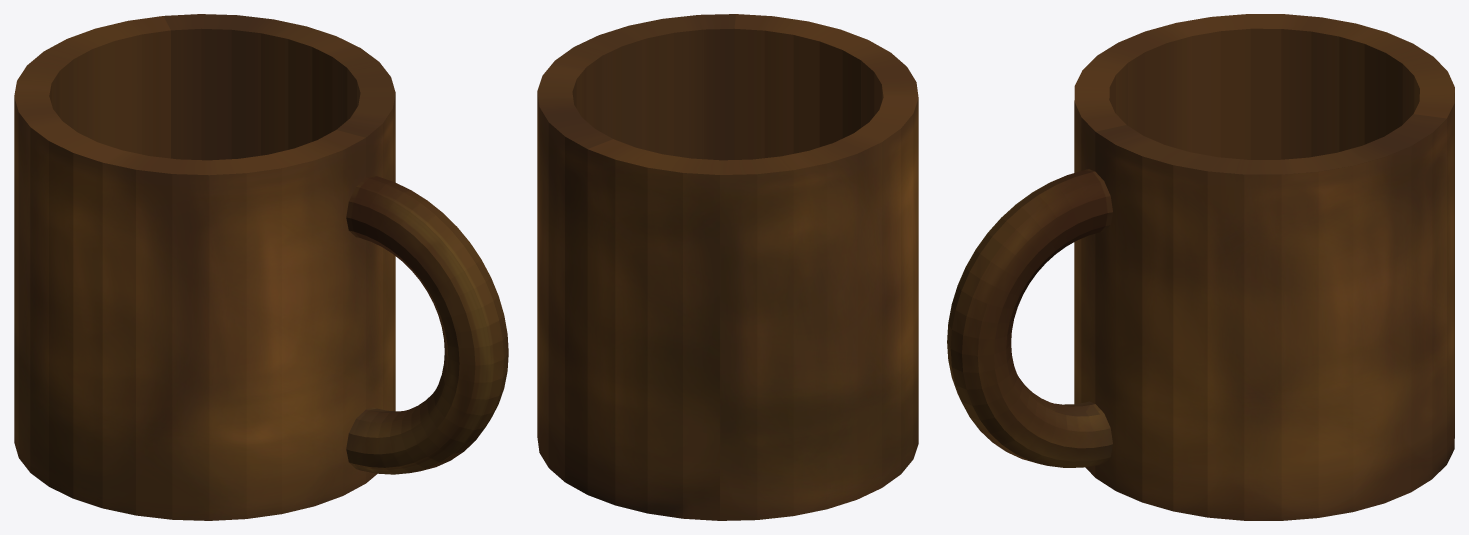
The model's file is cup_mod.fbx.
The picture shows the model from 3 angles, left to right: view 1: azimuth 30°, elevation 25°; view 2: azimuth 150°, elevation 25°; view 3: azimuth 270°, elevation 25°; orthographic projection.
Parts seen in each view (by area): view 1: Cylinder.034, Torus.002; view 2: Cylinder.034; view 3: Cylinder.034, Torus.002.
Part boxes in pixels (x1,y1,x2,y2): Cylinder.034: [14, 14, 395, 520]; Torus.002: [346, 175, 508, 474]; Cylinder.034: [537, 14, 918, 520]; Cylinder.034: [1074, 14, 1454, 520]; Torus.002: [947, 169, 1112, 467].
Size of the model in its own units: 72.53 by 72.82 by 96.82.
Materials: 2 (2 with a texture image).
